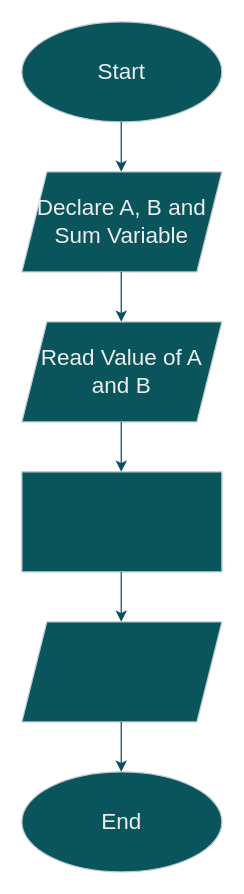
Some shapes in this 244 by 894 pixel diagram are drawn without their labels. The shapes that lost their labels are listed below. From the top down, each one's box as (x1, y1, x2, y2) in pixels, then its label:
(21, 471, 222, 572): Sum of two Value A and B
(21, 621, 222, 722): Print Sum
